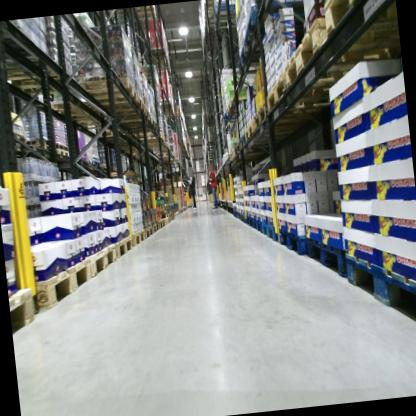pallet: (278, 7, 404, 105), (264, 62, 399, 120), (343, 241, 416, 337), (239, 0, 322, 54), (0, 59, 87, 106), (320, 0, 399, 48), (26, 255, 95, 309), (303, 225, 349, 286), (73, 72, 139, 109), (243, 112, 313, 145), (251, 97, 314, 133), (229, 37, 282, 79), (8, 285, 39, 337), (237, 125, 294, 152), (83, 240, 119, 277), (234, 136, 298, 156), (211, 0, 246, 33), (276, 222, 309, 257), (105, 93, 146, 118), (55, 145, 101, 167), (110, 5, 157, 26), (119, 115, 158, 134), (116, 105, 152, 125), (224, 95, 258, 114), (112, 233, 135, 261), (5, 122, 28, 149), (132, 129, 166, 147), (223, 106, 258, 123), (261, 219, 278, 242), (129, 228, 146, 246), (148, 45, 169, 57), (251, 214, 263, 234), (143, 223, 155, 239), (153, 217, 166, 230), (86, 153, 95, 165), (247, 214, 253, 230), (152, 221, 159, 233), (227, 151, 233, 165), (240, 213, 247, 224), (230, 147, 237, 157), (236, 210, 241, 221), (163, 216, 169, 225), (232, 208, 237, 218), (166, 215, 171, 222)
pallet_truck: (181, 178, 194, 207)
